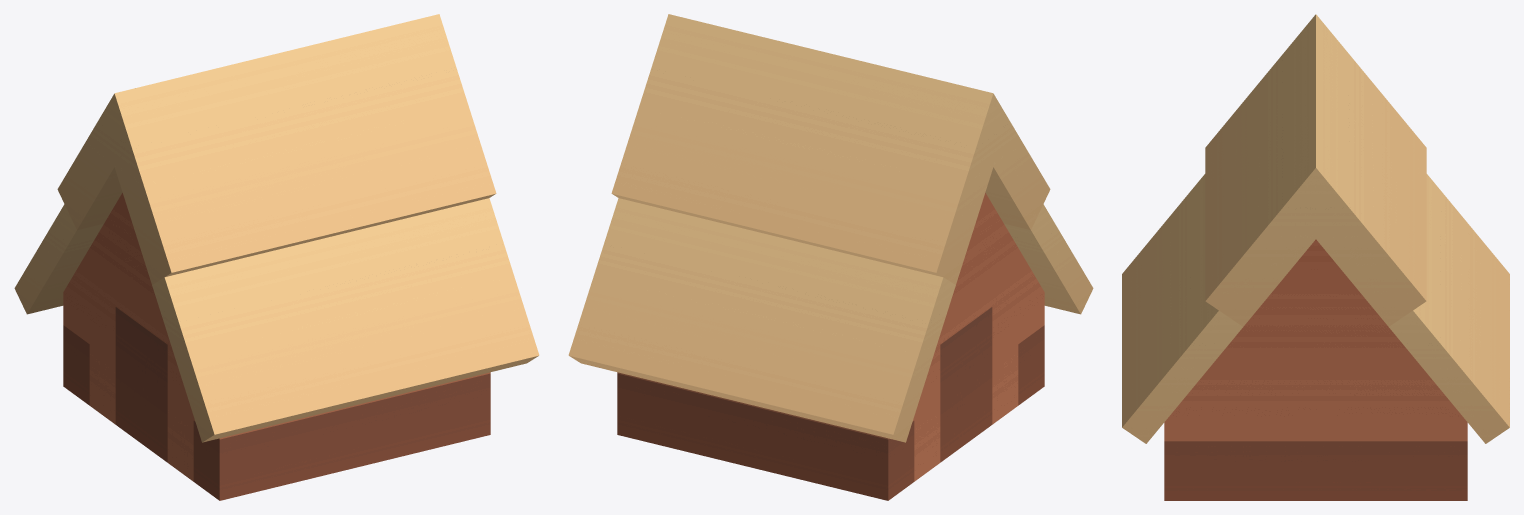
File: hx_unit-house.glb
The picture shows the model from 3 angles, left to right: view 1: azimuth 30°, elevation 25°; view 2: azimuth 150°, elevation 25°; view 3: azimuth 270°, elevation 25°; orthographic projection. The views are drawn at different scales.
Size of the model in its own units: 0.36 by 0.3781 by 0.384.
Materials: 1 (1 with a texture image).
